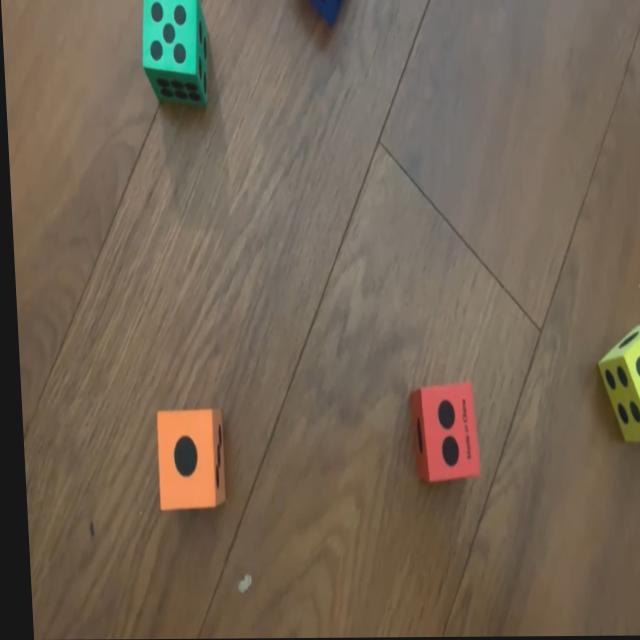cube: (139, 0, 212, 105), (403, 383, 475, 484), (310, 0, 339, 25)
